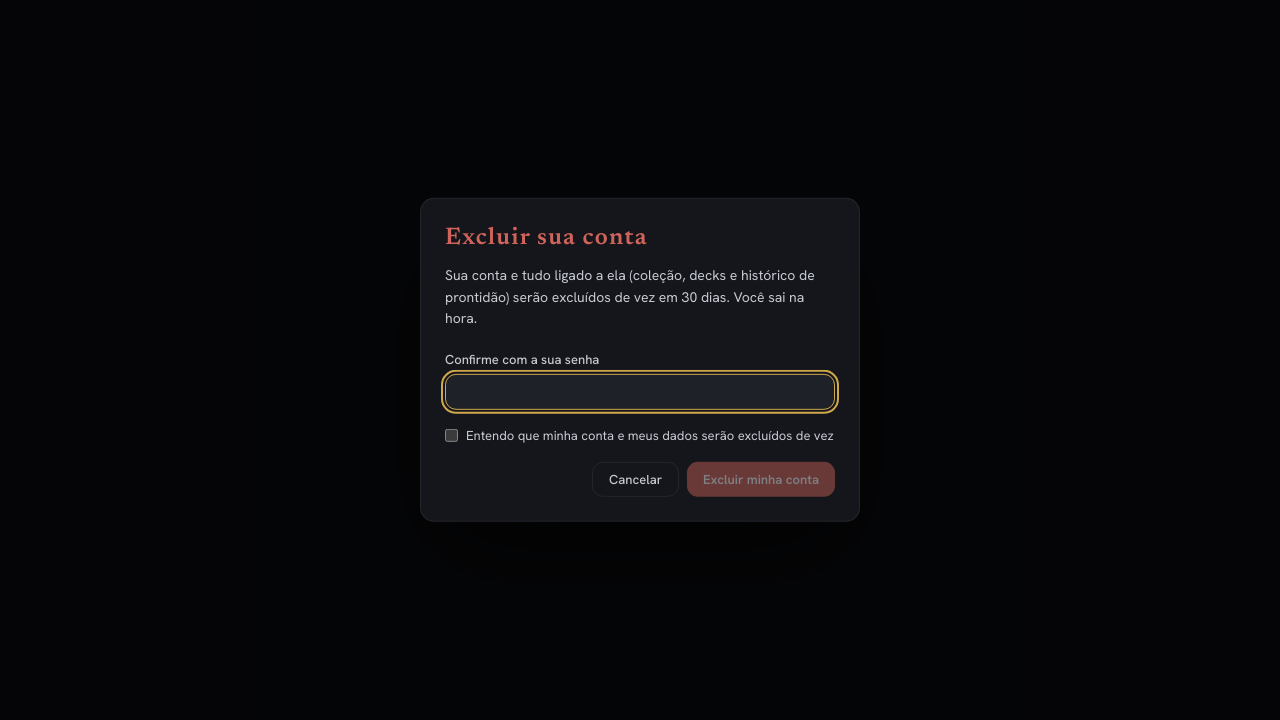
Test: DeleteAccountModal › shows the shared rate-limit message on 429
The image size is (1280, 720).
In the password field labelled "Confirme com a sua senha": point(640, 392) [445,374,835,410], type "hunter2"
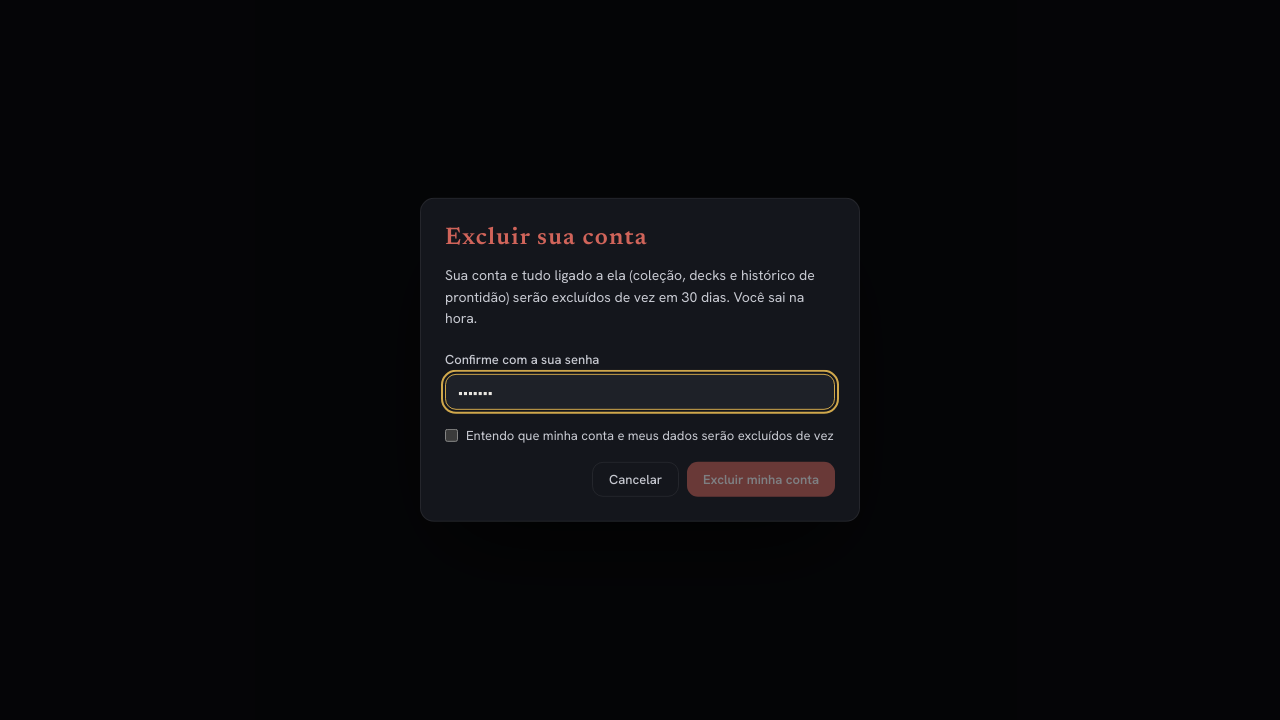
Click the checkbox labelled "Entendo que minha conta e meus dados serão excluídos de vez": point(452, 436) [445,429,458,442]
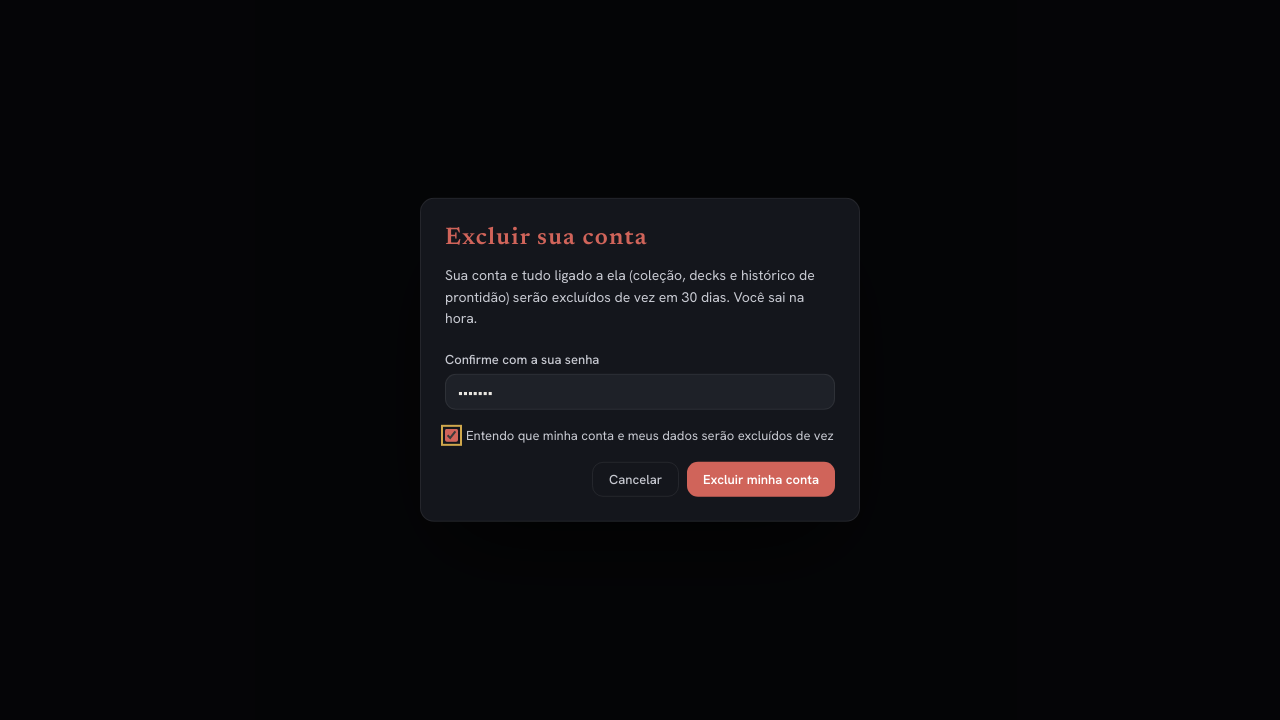
Click the button "Excluir minha conta": point(761, 480) [687,462,835,497]
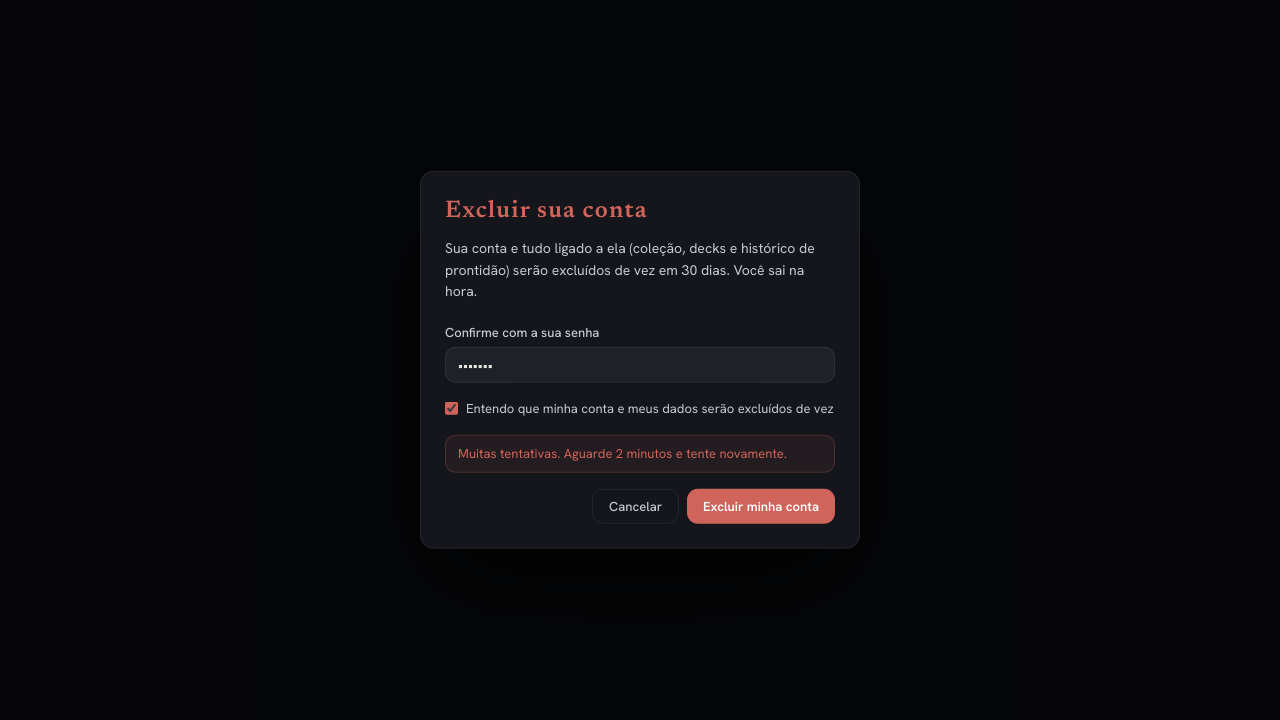
Check: the message shows "Muitas tentativas", box [458,445,787,462]
Check: the message shows "2 minutos", box [458,445,787,462]
